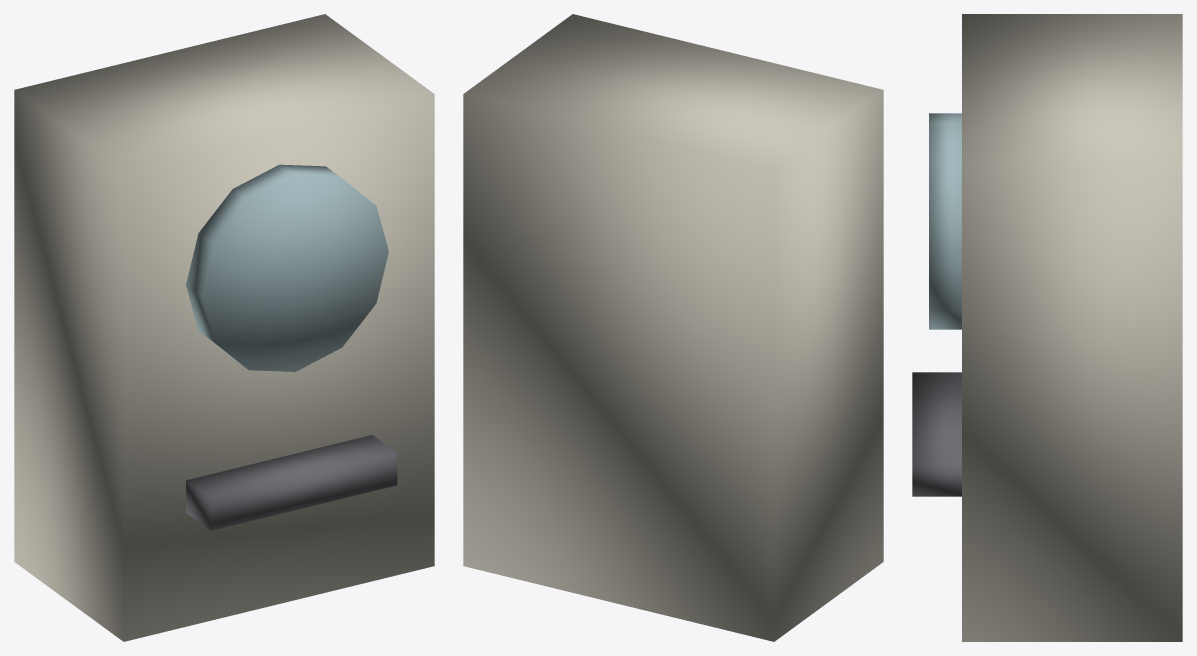
Rendered from factory_time_clock__deep.glb.
3 views of the same model, side by side, from view 1: azimuth 30°, elevation 25°; view 2: azimuth 150°, elevation 25°; view 3: azimuth 270°, elevation 25° (orthographic).
Visible parts, largest first — view 1: world; view 2: world; view 3: world.
Part boxes in pixels (box(x1,y1,x2,y2)): world: box(14, 14, 434, 641); world: box(463, 14, 883, 641); world: box(912, 14, 1182, 641).
Size of the model in its own units: 0.4 by 0.58 by 0.2989.
